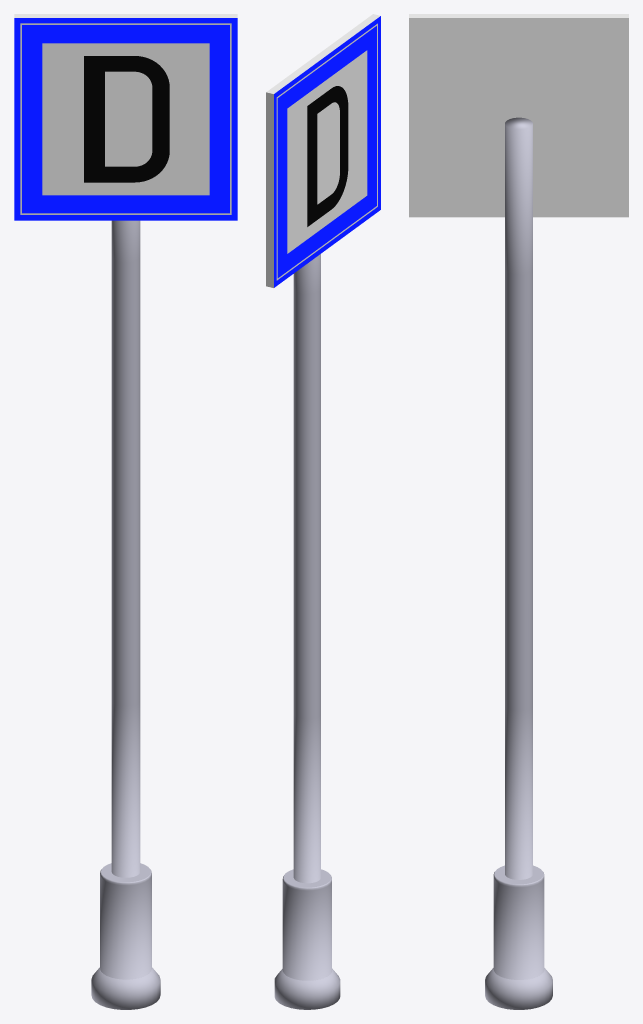
File: DurTabelasi.dae
The picture shows the model from 3 angles, left to right: view 1: azimuth 90°, elevation 25°; view 2: azimuth 150°, elevation 25°; view 3: azimuth 270°, elevation 25°; orthographic projection. The views are drawn at different scales.
Parts seen in each view (by area): view 1: Station_sing, Station_body; view 2: Station_body, Station_sing; view 3: Station_sing, Station_body.
Boxes of the visible parts, x1=… form: Station_sing: x1=14, y1=14, x2=237, y2=220; Station_body: x1=91, y1=220, x2=160, y2=1009; Station_body: x1=274, y1=254, x2=340, y2=1009; Station_sing: x1=266, y1=14, x2=380, y2=287; Station_sing: x1=409, y1=14, x2=628, y2=217; Station_body: x1=485, y1=117, x2=552, y2=1009.
Size of the model in its own units: 0.1839 by 0.6 by 2.93.
